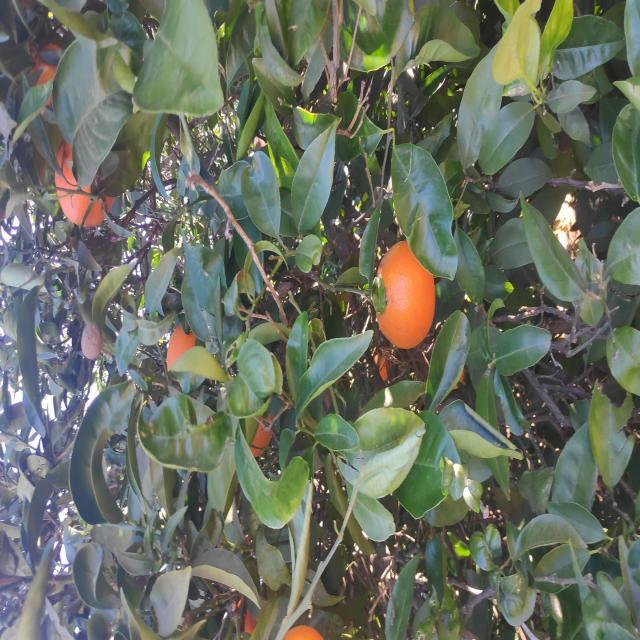Jeruk Sudah Matang: (292, 372, 398, 434), (412, 54, 501, 112), (520, 28, 608, 63), (266, 166, 316, 198), (185, 248, 235, 274), (0, 274, 21, 320)
